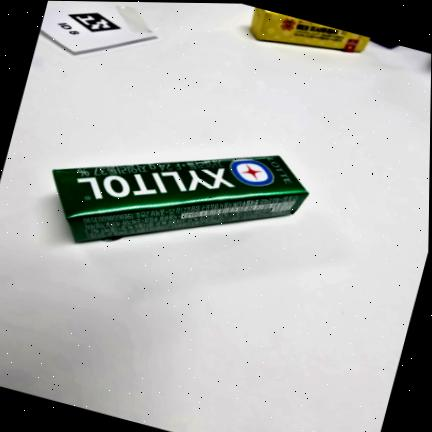gum_green: (52, 155, 307, 242)
